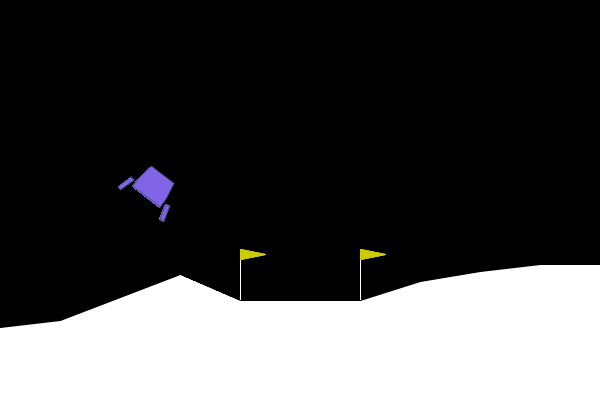lander: (116, 156, 188, 224)
